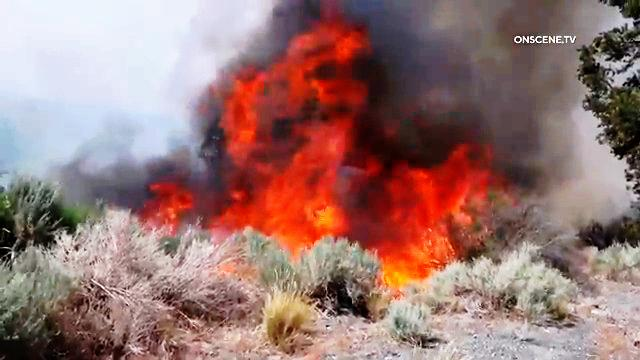fire: (192, 1, 494, 296), (137, 195, 195, 250)
smoke: (396, 3, 482, 140), (49, 116, 179, 190)
